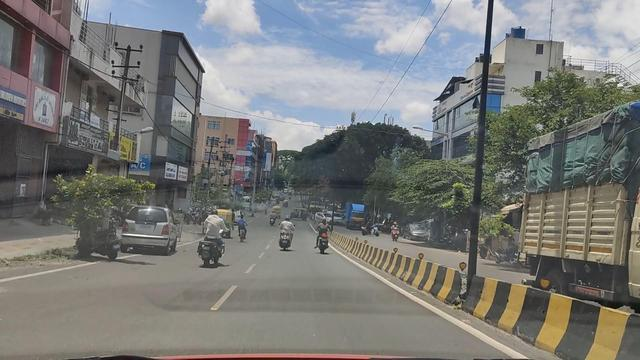LMV: (122, 195, 176, 252), (69, 210, 124, 264), (188, 204, 232, 267), (274, 210, 300, 251), (312, 212, 334, 258)
